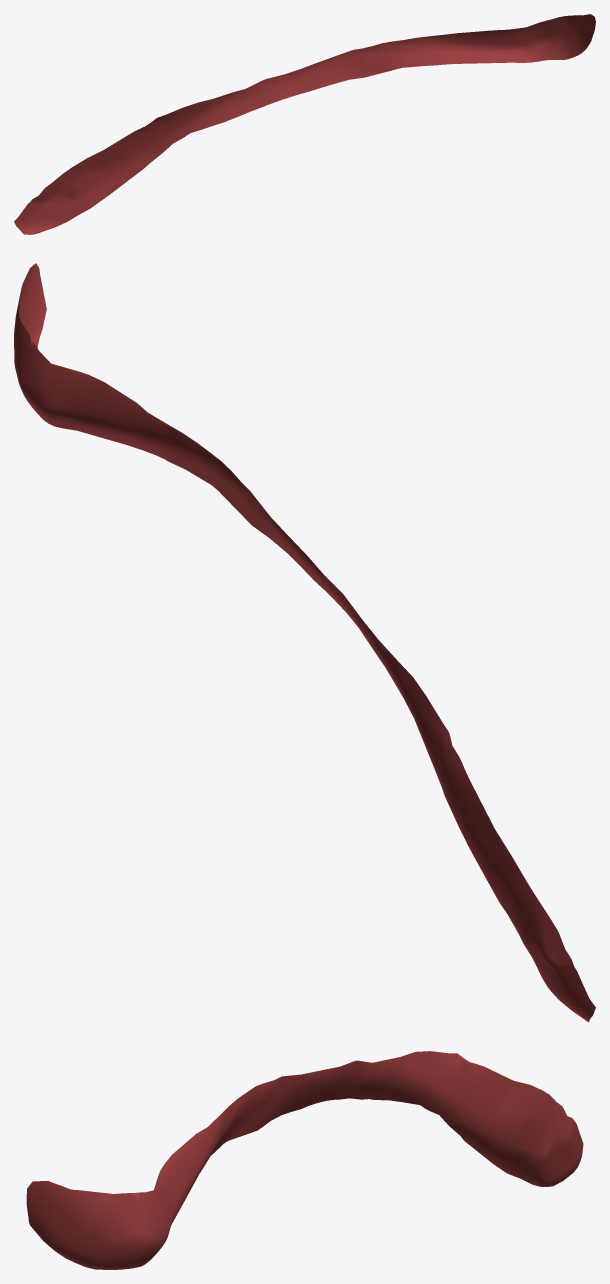
File: scapular-spinal-part-of-deltoid-muscle-ol.glb
3 renders of one model, top to bottom at view 1: azimuth 30°, elevation 25°; view 2: azimuth 150°, elevation 25°; view 3: azimuth 270°, elevation 25°, orthographic. The views are drawn at different scales.
Parts seen in each view (by area): view 1: Scapular spinal part of deltoid muscle.ol; view 2: Scapular spinal part of deltoid muscle.ol; view 3: Scapular spinal part of deltoid muscle.ol.
Part boxes in pixels (x1,y1,x2,y2): Scapular spinal part of deltoid muscle.ol: [14, 14, 595, 234]; Scapular spinal part of deltoid muscle.ol: [14, 263, 595, 1022]; Scapular spinal part of deltoid muscle.ol: [26, 1051, 583, 1269].
Bounding box in the file's own units: 0.0761 × 0.0344 × 0.0414.
